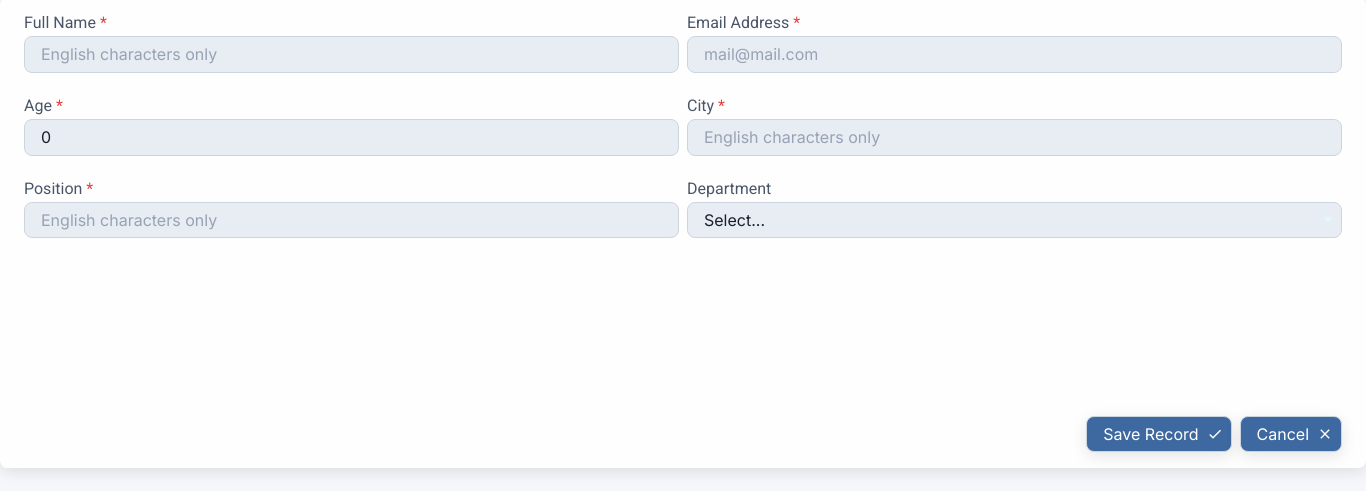
it: RecordForm — ошибка API › показывает сообщение об ошибке и сбрасывает loading
Note: Заполняем форму валидными данными
Type "JohnDoe" into the field labelled "Full Name *" at [352, 55], box [24, 36, 679, 73]
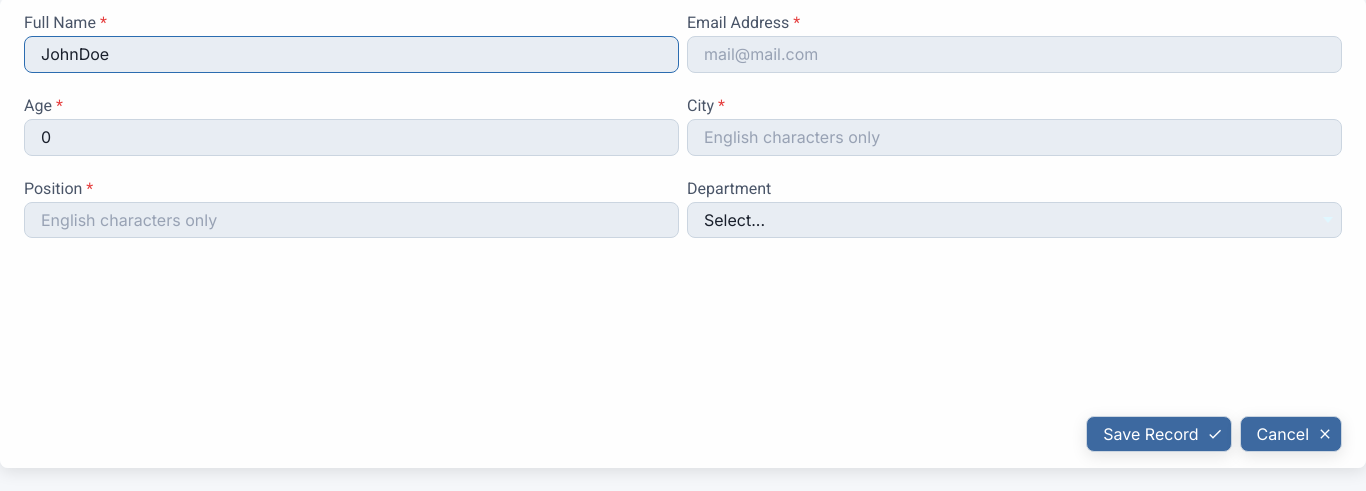
Type "john@example.com" into the field labelled "Email Address *" at [1014, 55], box [687, 36, 1342, 73]
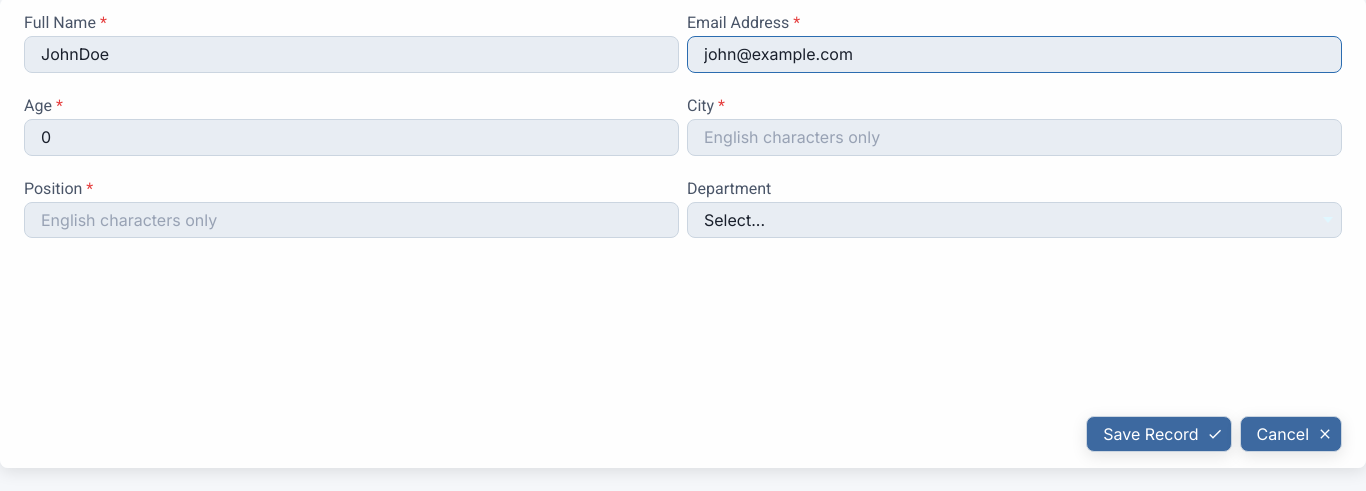
Type "30" into the number field labelled "Age *" at [352, 137], box [24, 119, 679, 156]
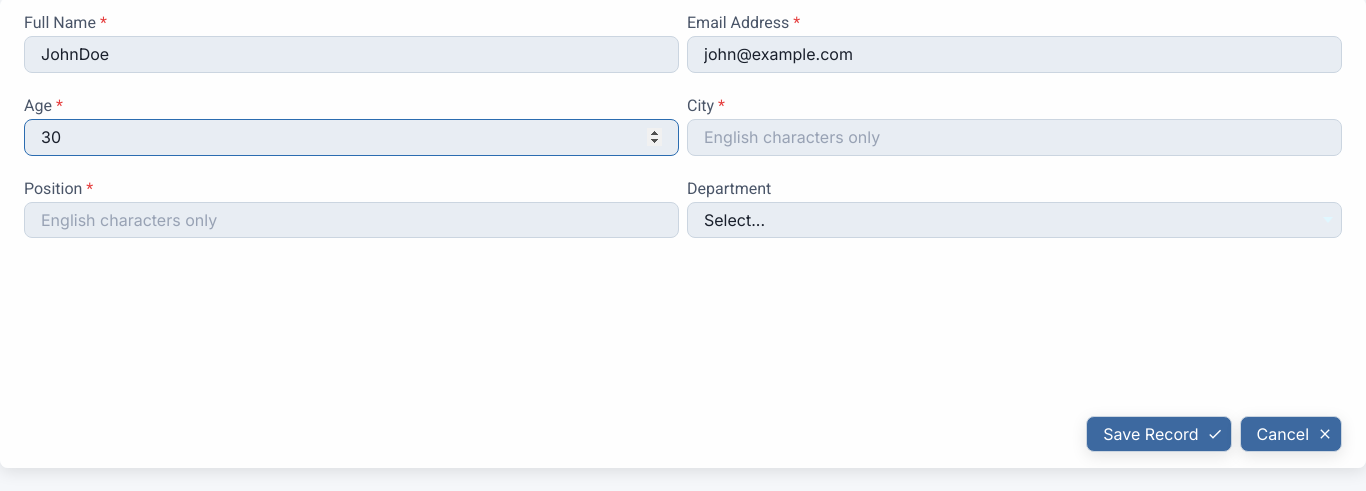
Type "London" into the field labelled "City *" at [1014, 137], box [687, 119, 1342, 156]
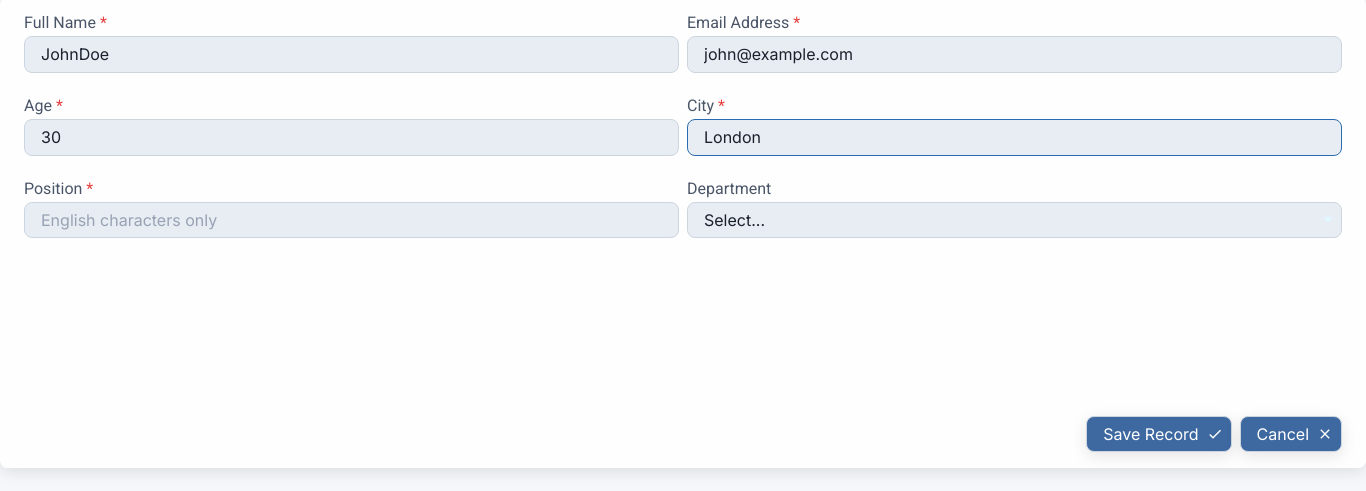
Type "Manager" into the field labelled "Position *" at [352, 220], box [24, 202, 679, 238]
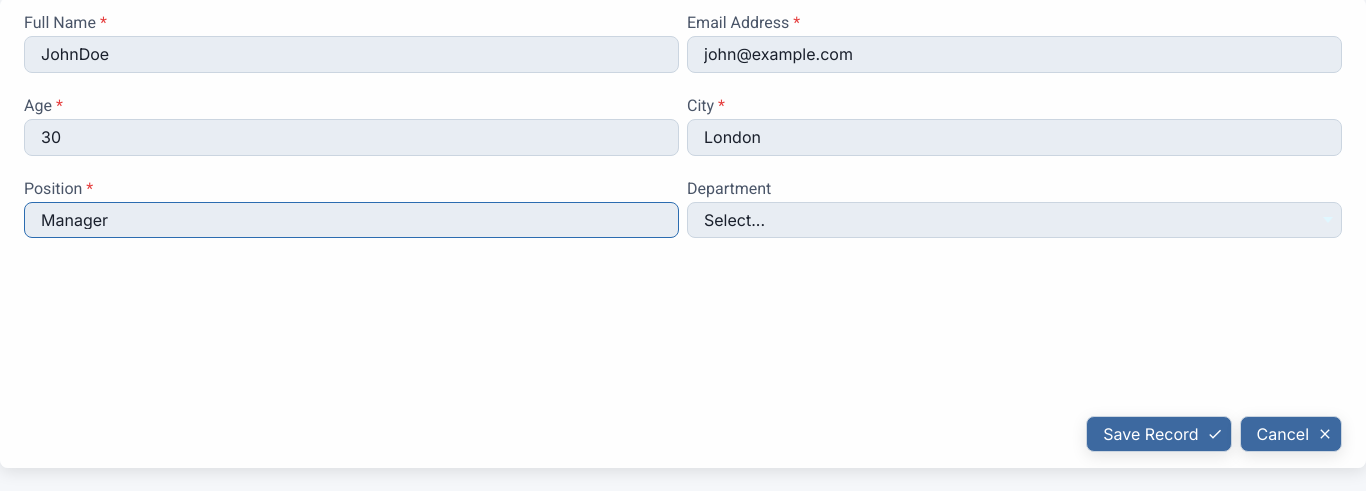
Click the button "Save Record" at [1159, 434], box [1086, 416, 1232, 452]
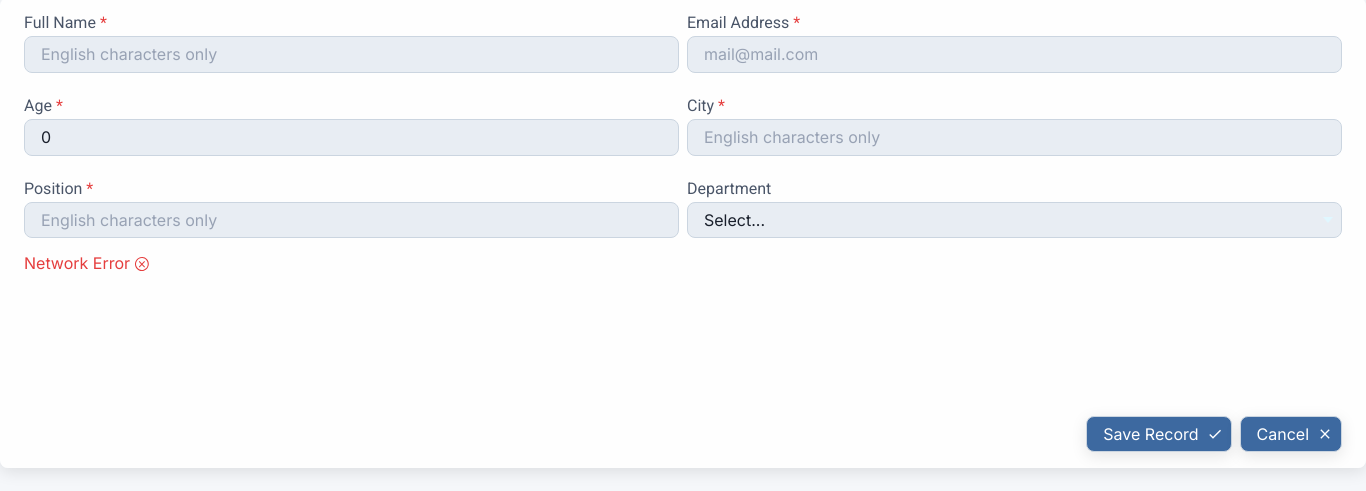
Check: the element with test id "global-error" reads "Network Error", box [24, 253, 130, 273]
